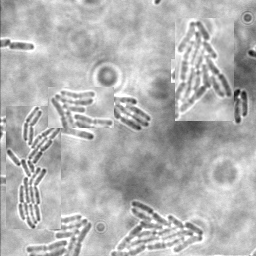Dividing: (8, 41, 35, 52)
Microcolony: (6, 106, 61, 229), (175, 18, 234, 121), (109, 200, 205, 255), (25, 212, 94, 255), (48, 87, 114, 128), (103, 96, 150, 132)
Rod: (171, 59, 191, 83)
